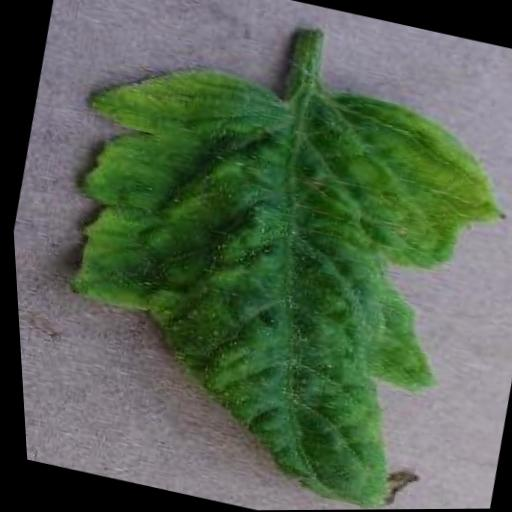Yellow Leaf Curl Virus: (2, 30, 512, 512)
